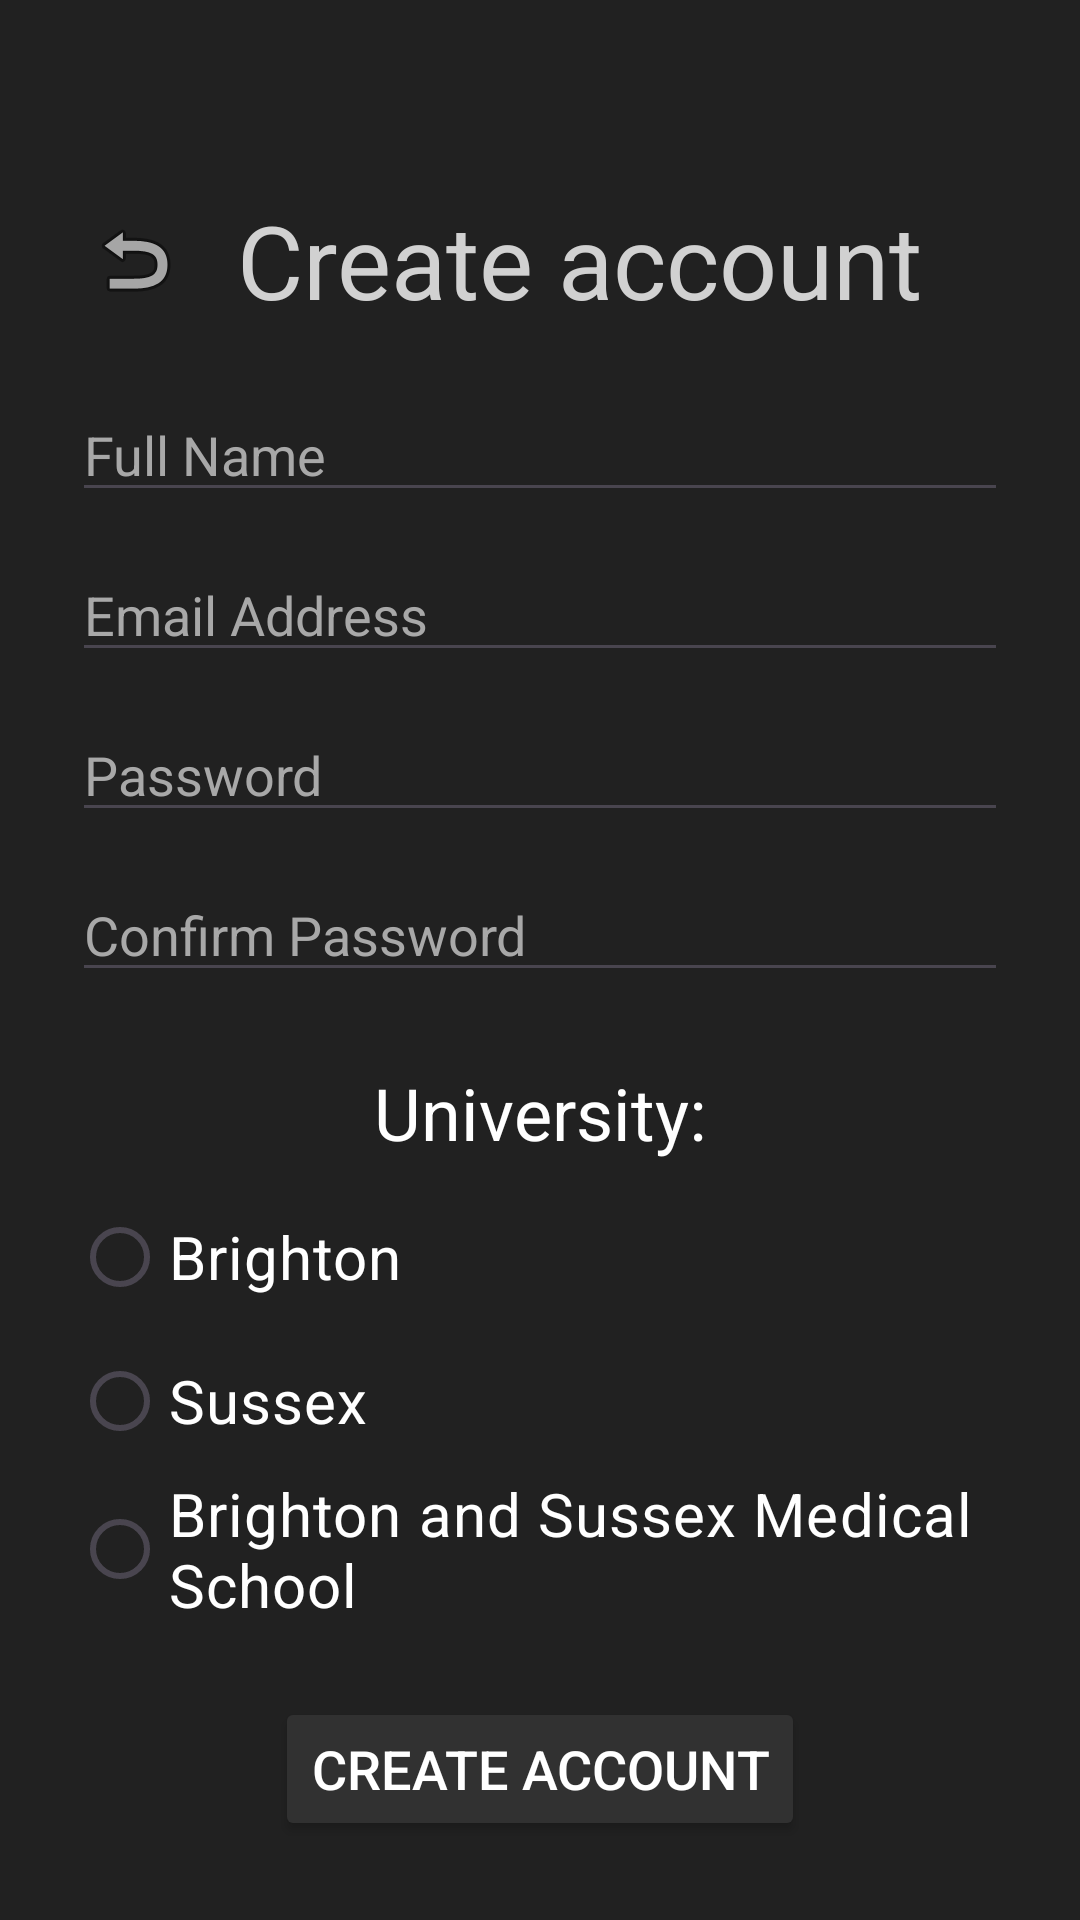

Icons on this 1080 × 1920 Android screen, each with its box as {"left": x1, "top": y1, "right": x2, "bottom": y2}:
revert: {"left": 105, "top": 232, "right": 168, "bottom": 289}
